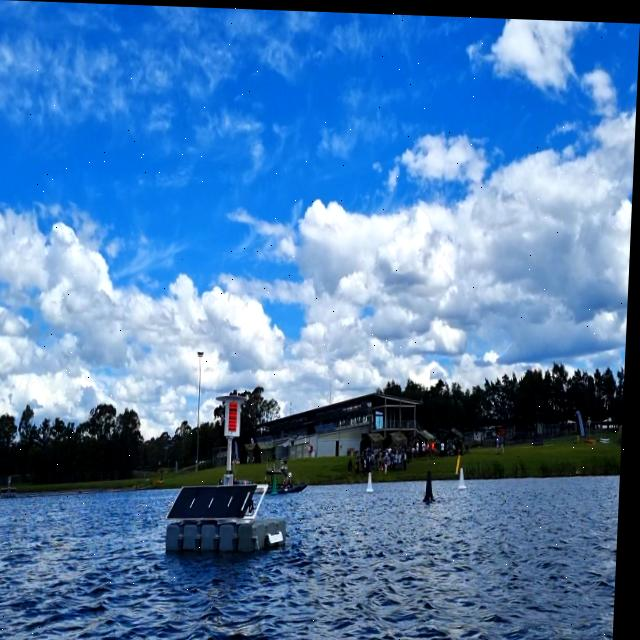led: (229, 397, 244, 433)
